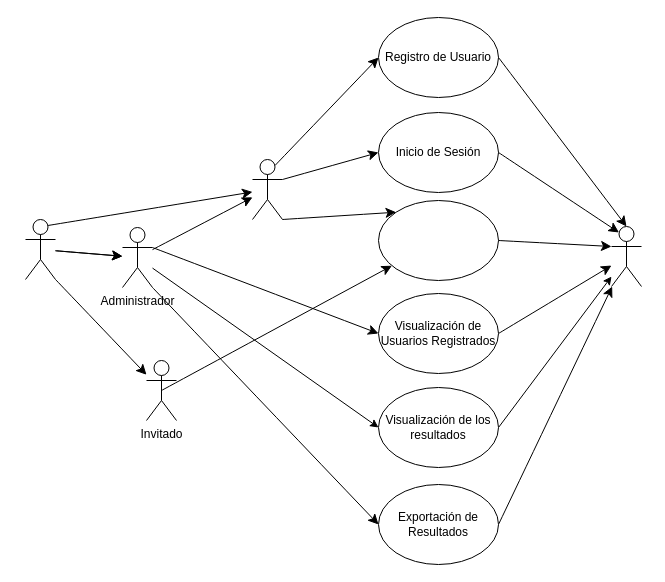
The diagram is 665 pixels wide and 582 high, and some of its shapes have lost their labels. Here are the shapes that lost their labels. From the top down, the box of each, then its label:
(252, 158, 282, 220): Usuario Registrado
(24, 218, 56, 280): Usuarios
(378, 200, 498, 280): Realización de Tests/Cuestionarios
(610, 226, 642, 286): Sistema
